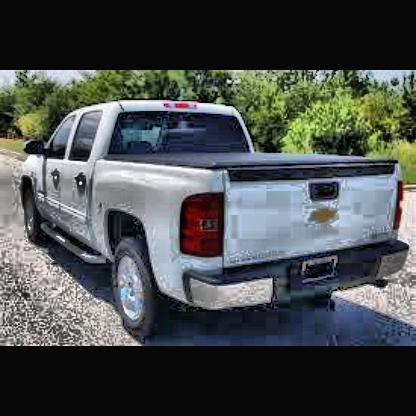Chevrolet Silverado 1500 Hybrid Crew Cab 2012: (23, 100, 414, 332)
